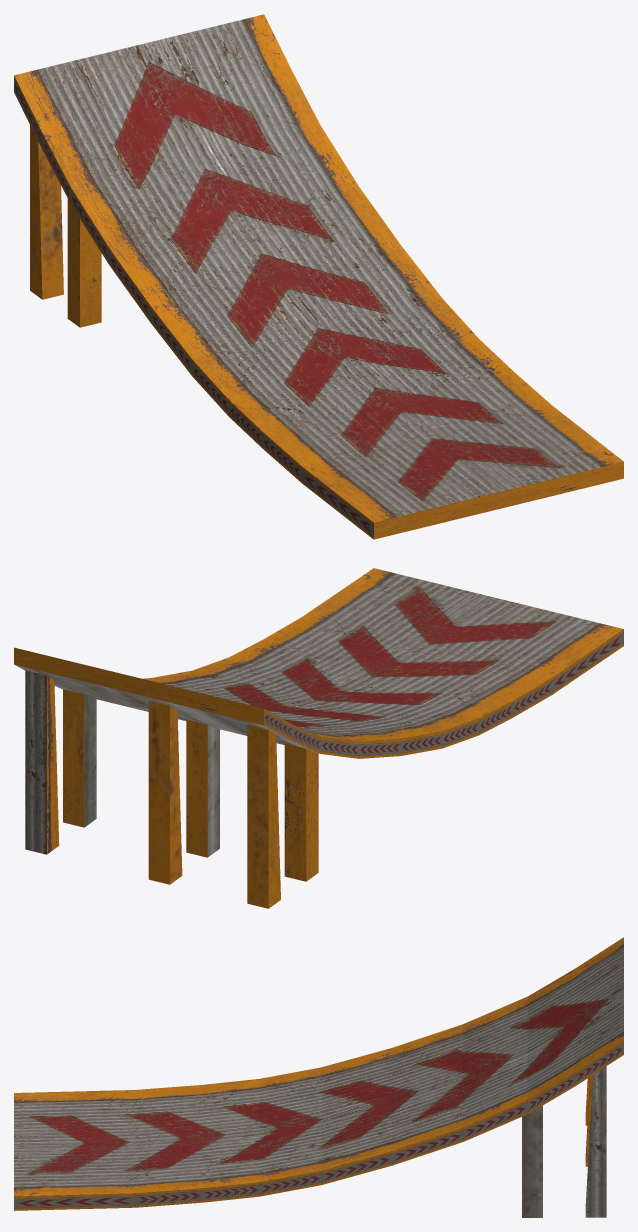
File: road-industrial-ramp.glb
3 renders of one model, top to bottom at view 1: azimuth 30°, elevation 25°; view 2: azimuth 150°, elevation 25°; view 3: azimuth 270°, elevation 25°, orthographic. The views are drawn at different scales.
Parts seen in each view (by area): view 1: Cube; view 2: Cube; view 3: Cube.
Part boxes in pixels (bbox=[...]): Cube: bbox=[14, 14, 623, 539]; Cube: bbox=[14, 568, 623, 908]; Cube: bbox=[14, 937, 623, 1217].
Size of the model in its own units: 6.73 by 5.39 by 16.77.
Materials: 1 (1 with a texture image).
